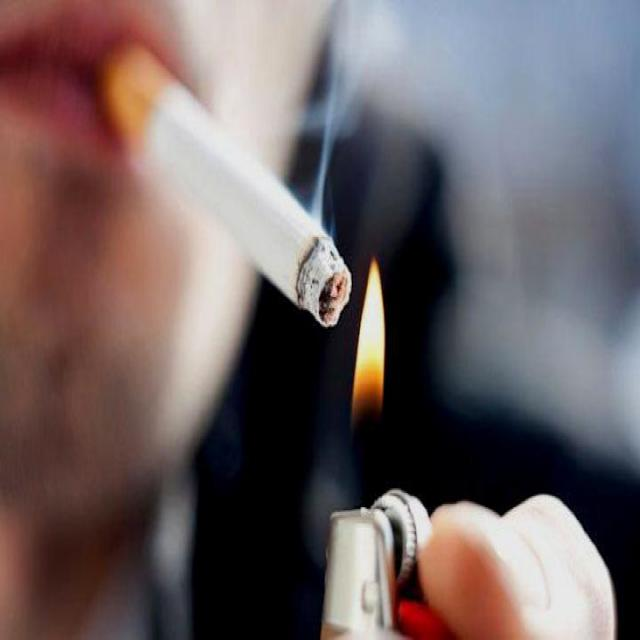cigarette: (94, 33, 356, 332)
